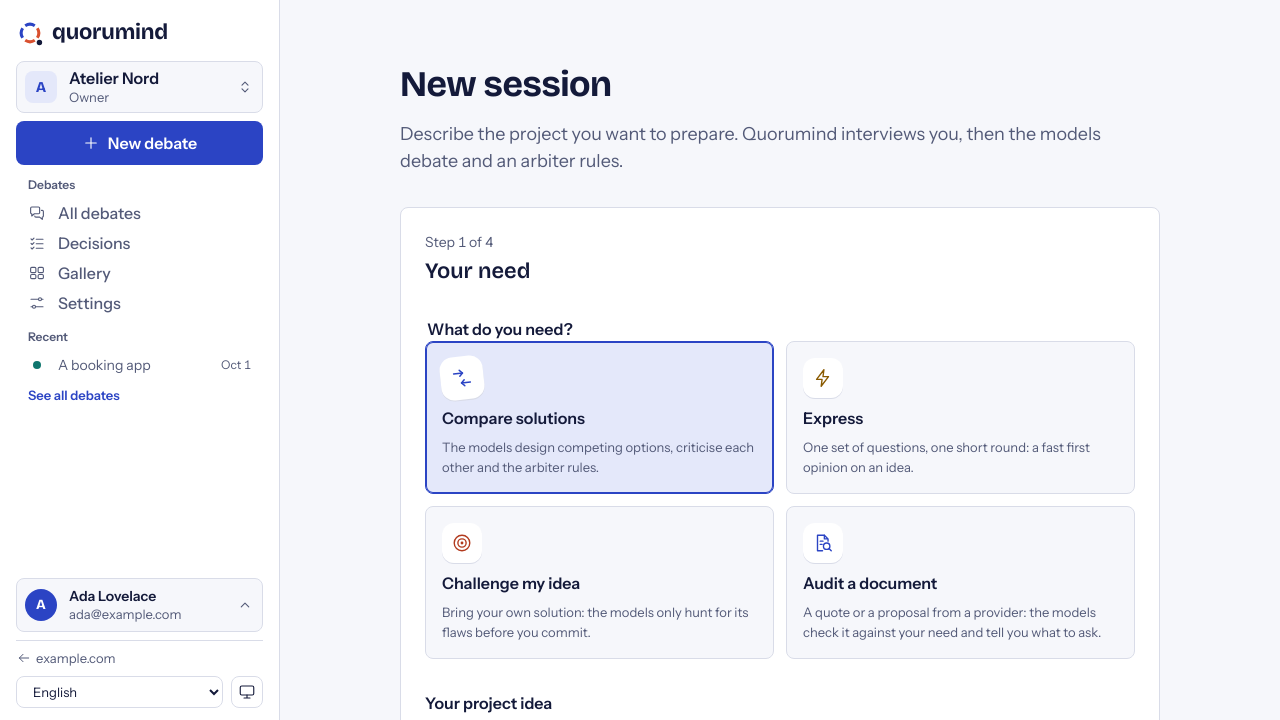
Test case: the menu, hosted › opens the workspace's menu over its button: the workspace, the workspaces, its pages, then a way to create one
This screenshot has width=1280, height=720.
What coordinates should you click on to do the following:
click the button named "Workspace: Atelier Nord"
I would click on:
 (140, 87)
Its box is [16,61,263,113].
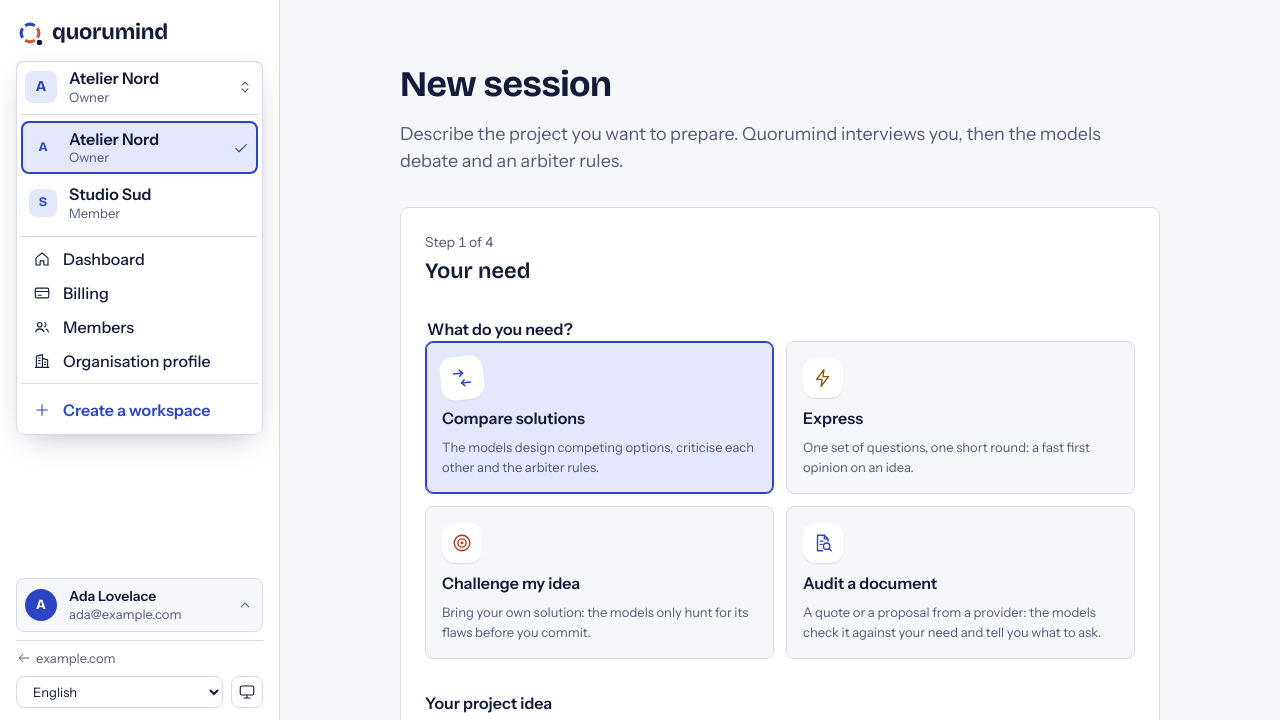
Expected: the button named "Workspace: Atelier Nord" is expanded, [16,61,263,113]
Expected: the element with class "workspace-menu-head" reads "A Atelier Nord Owner"
What coordinates should you click on to do the following:
click the element with class "workspace-menu-head"
I would click on:
 (140, 90)
Its box is [21,66,258,115].
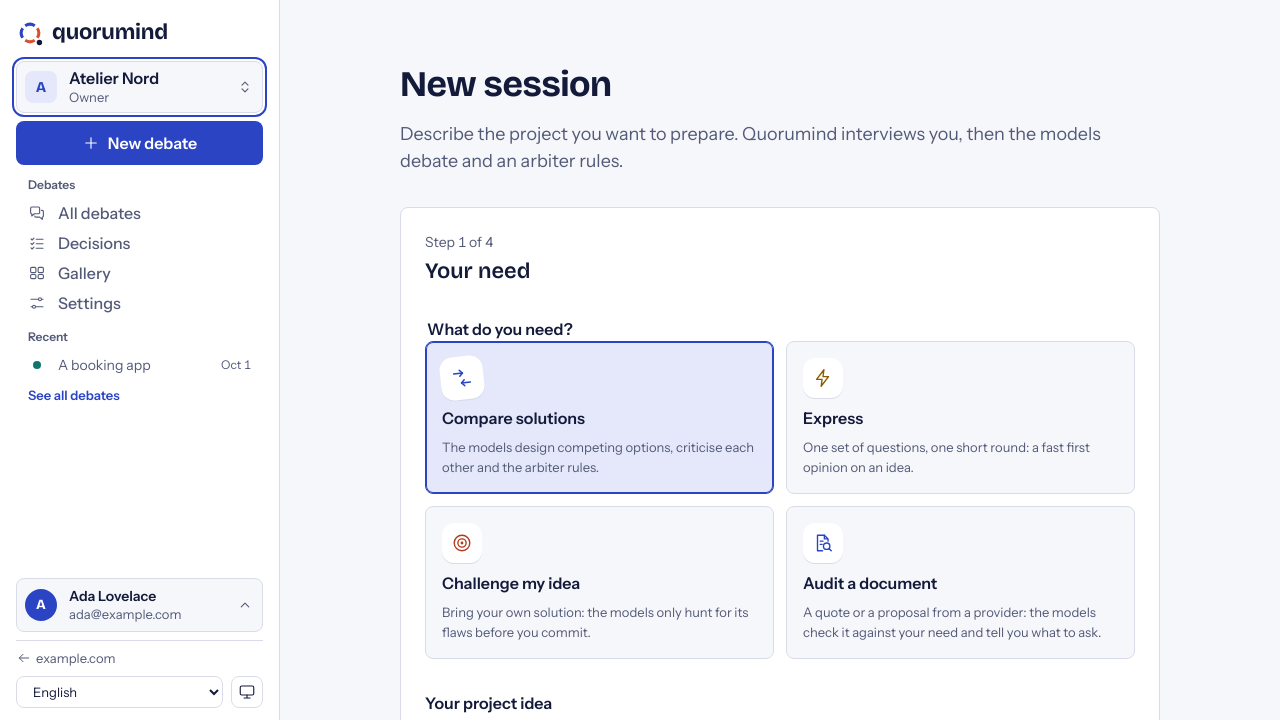
Expected: the menu is gone
